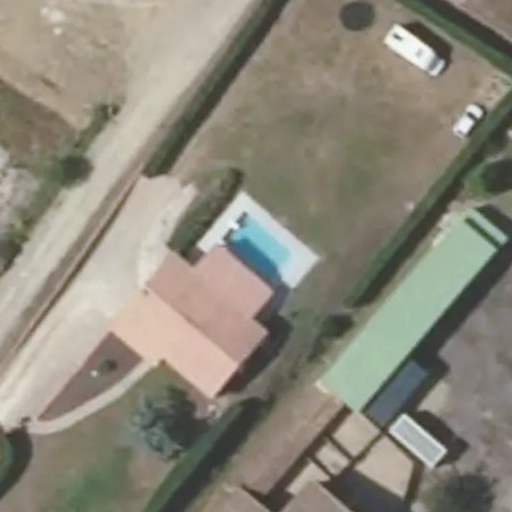pool: (215, 232, 297, 250)
